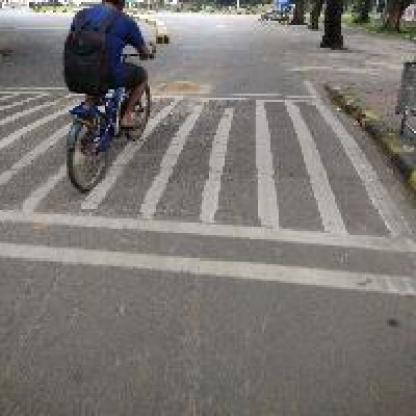Speed Bump: (150, 90, 414, 304), (1, 87, 70, 266)
